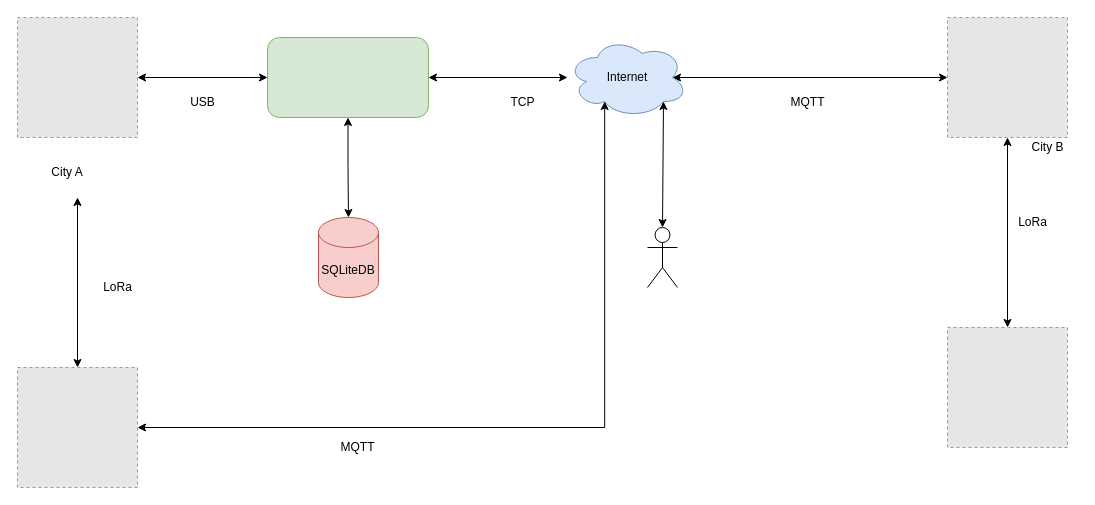
This 1095x505 diagram has some shape labels left out. Grey dashed boxes stand in for pictures. Each missing label, with the centre of its shape:
meshtastic-telegram-gateway: (x=347, y=77)
Telegram user: (x=662, y=257)
